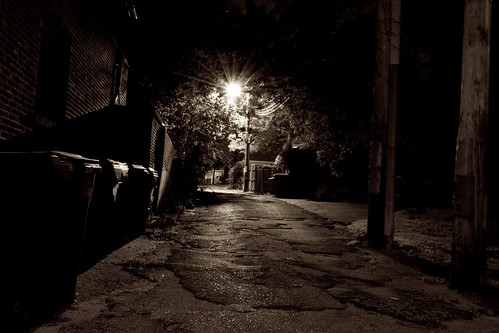street: (61, 198, 462, 333)
trash can: (1, 149, 108, 310)
